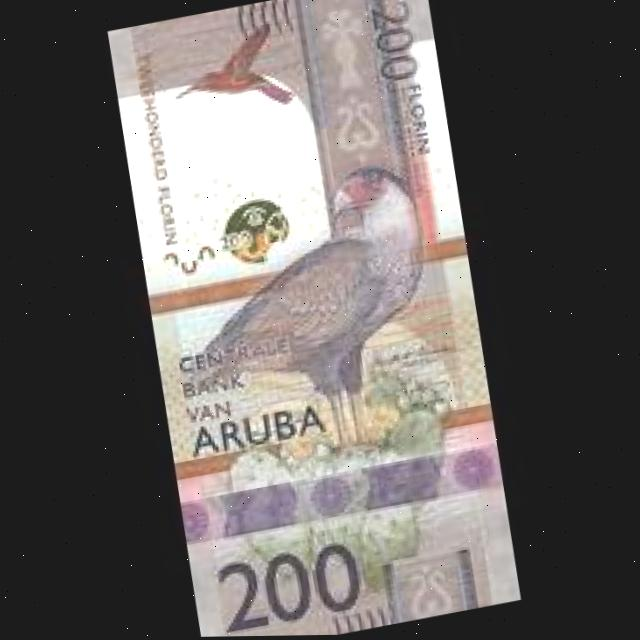banknote: (95, 0, 535, 639)
